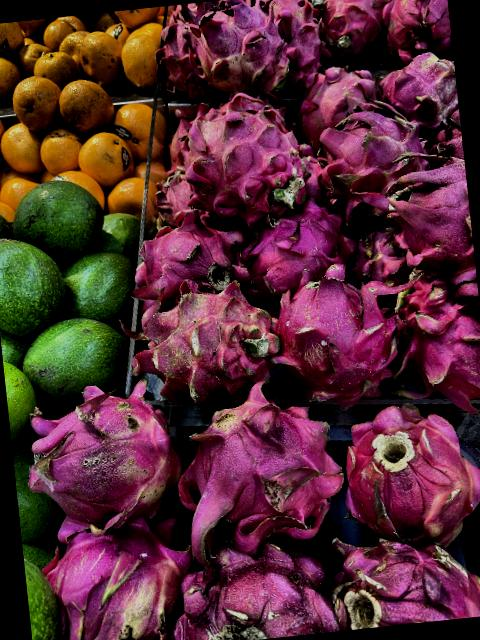buah-naga-belum-matang: (16, 375, 184, 524), (335, 385, 480, 548), (126, 277, 282, 409), (40, 502, 186, 640), (187, 0, 298, 101), (380, 42, 460, 125)
buah-naga-matang: (174, 368, 348, 558), (165, 522, 339, 640), (266, 263, 406, 403), (322, 510, 480, 632), (184, 86, 314, 226), (362, 142, 477, 292), (388, 260, 480, 410), (128, 208, 244, 304), (316, 108, 417, 208), (238, 198, 344, 290), (266, 0, 331, 90), (294, 58, 376, 126), (154, 8, 214, 100), (383, 0, 453, 64), (320, 0, 395, 57), (155, 165, 202, 219)
